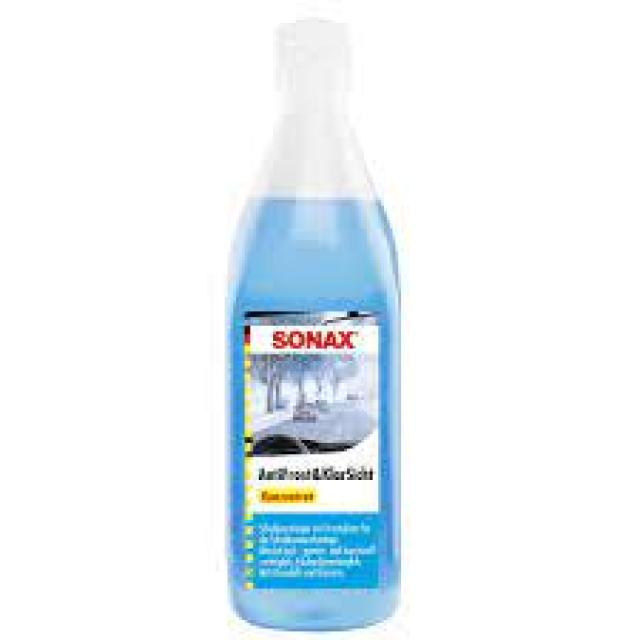winwinshield_washer: (218, 17, 410, 638)
